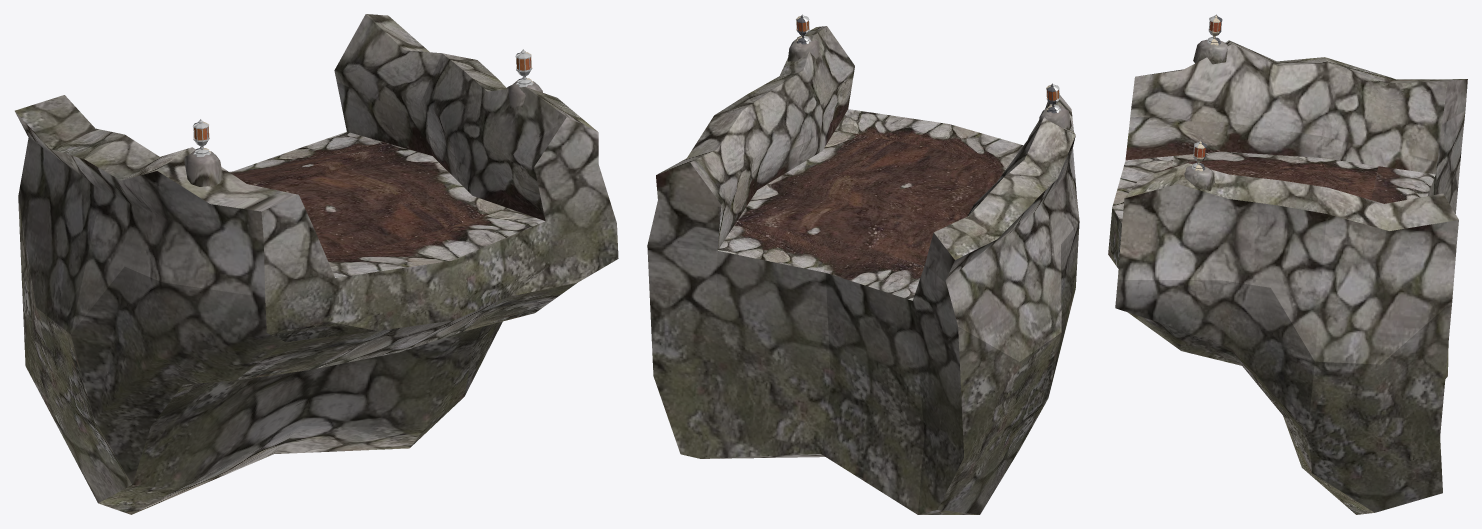
File: spooky-bridge-fragment-02-art.glb
The picture shows the model from 3 angles, left to right: view 1: azimuth 30°, elevation 25°; view 2: azimuth 150°, elevation 25°; view 3: azimuth 270°, elevation 25°; orthographic projection. The views are drawn at different scales.
Parts seen in each view (by area): view 1: Spooky_Bridge_Fragment_02_Art; view 2: Spooky_Bridge_Fragment_02_Art; view 3: Spooky_Bridge_Fragment_02_Art.
Boxes of the visible parts, box(x1,y1,x2,y2) form: Spooky_Bridge_Fragment_02_Art: box(15, 14, 618, 514); Spooky_Bridge_Fragment_02_Art: box(647, 14, 1079, 514); Spooky_Bridge_Fragment_02_Art: box(1108, 14, 1467, 514).
Bounding box in the file's own units: 3.93 × 3.91 × 3.33.
3 materials, 3 textured.
